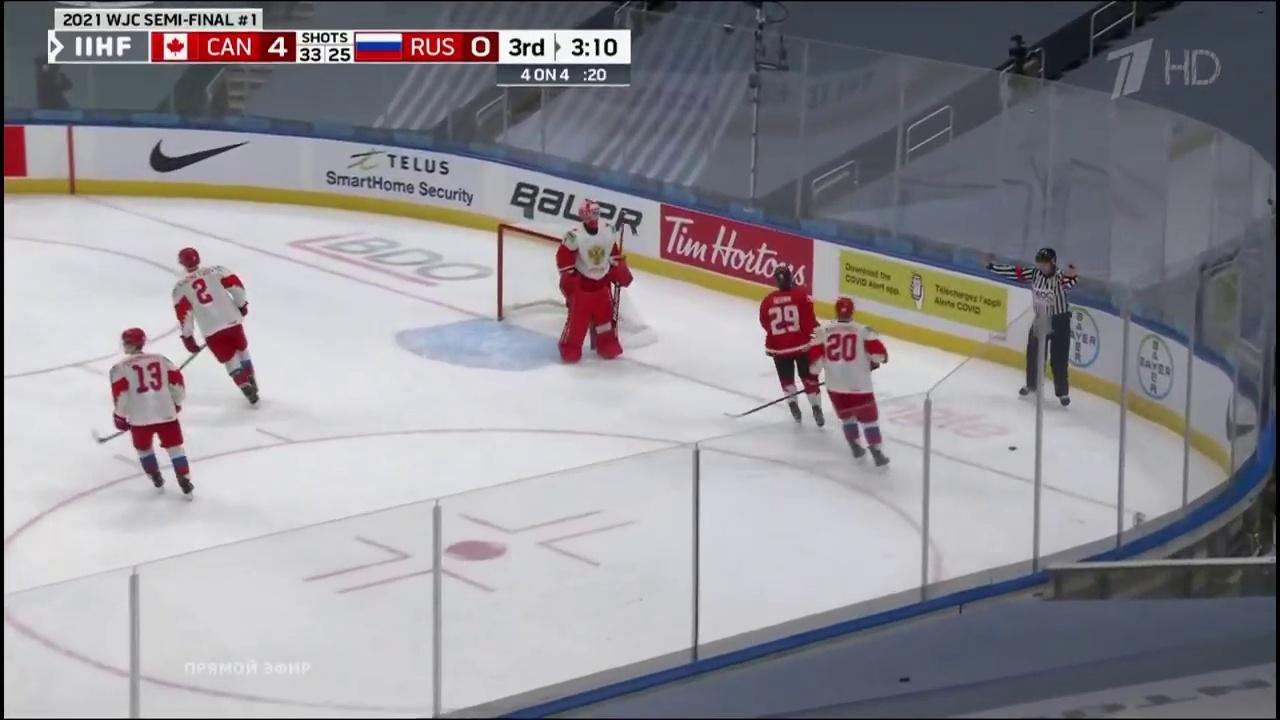ball: (1008, 445, 1018, 451)
